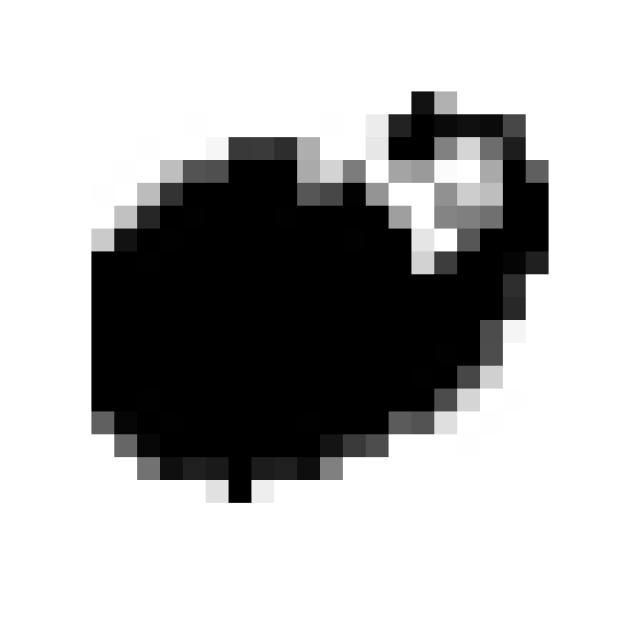0 -zero-: (68, 85, 562, 504)
